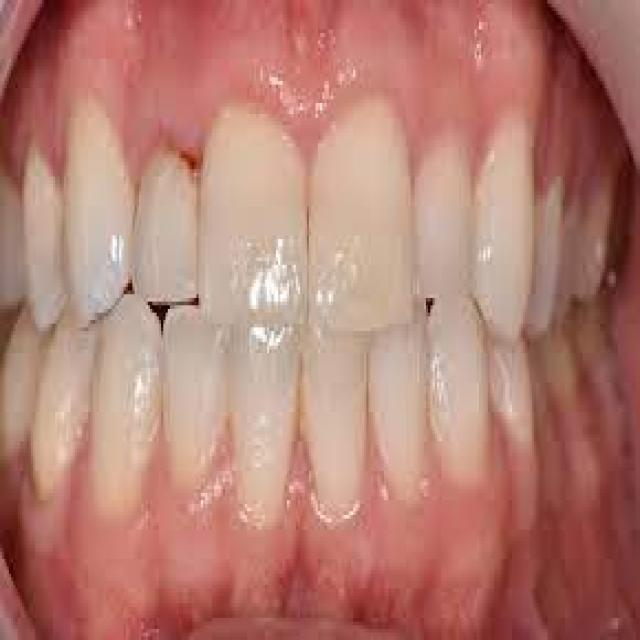tooth: (196, 81, 312, 327), (307, 84, 417, 334), (60, 74, 139, 324), (230, 291, 300, 526), (97, 291, 163, 526), (474, 88, 532, 350), (302, 320, 368, 526), (428, 287, 494, 493), (163, 294, 230, 489), (33, 305, 93, 519), (136, 121, 198, 324), (370, 316, 432, 519), (410, 121, 474, 302), (15, 121, 66, 331), (490, 331, 538, 449), (536, 162, 563, 346)
